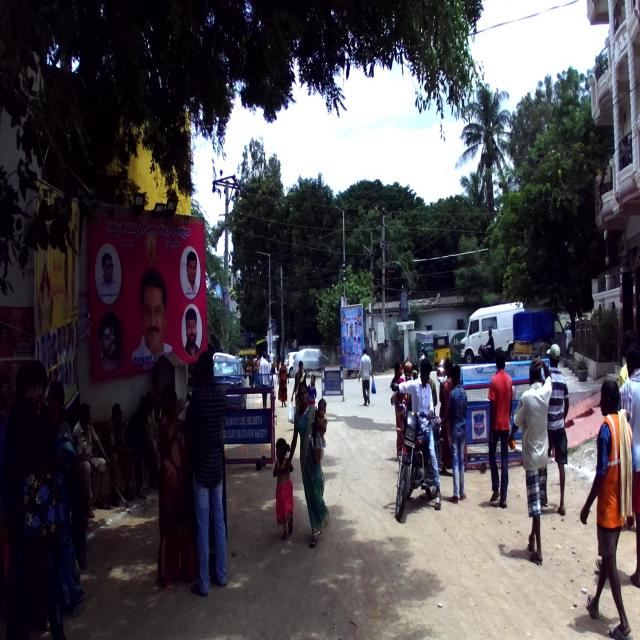Car: (292, 347, 329, 377)
motorcycle_Hero: (390, 382, 444, 521)
